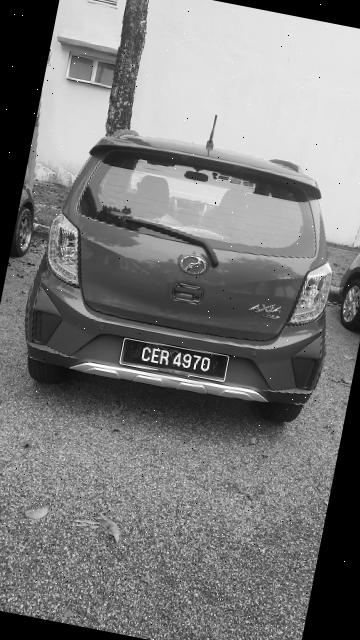License_Plate: (113, 335, 234, 390)
car: (12, 107, 360, 444)
